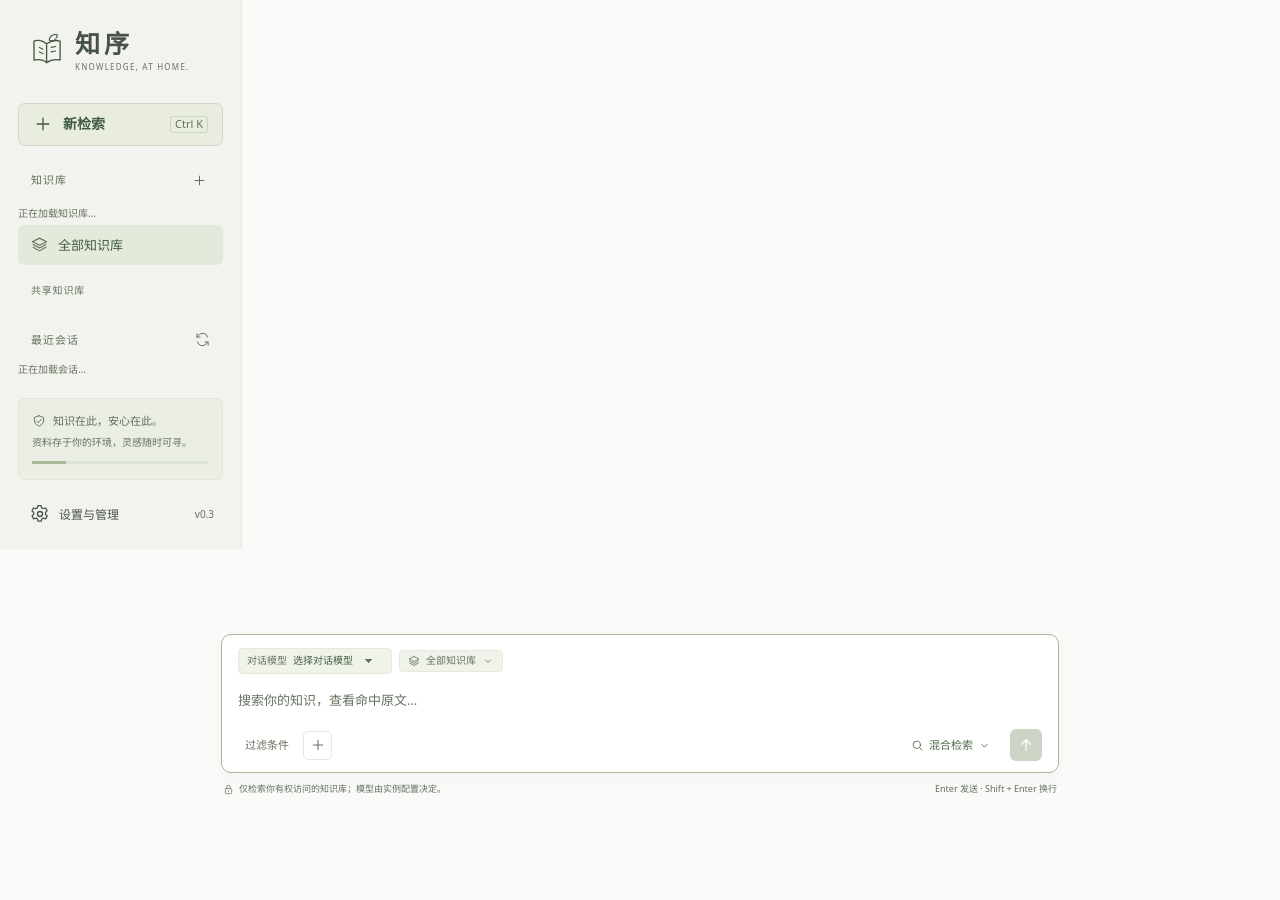
Test: 格式与上传时间可以叠加过滤并在新检索时重置
Click the button "过滤条件": x=267, y=745 [238,733,296,757]
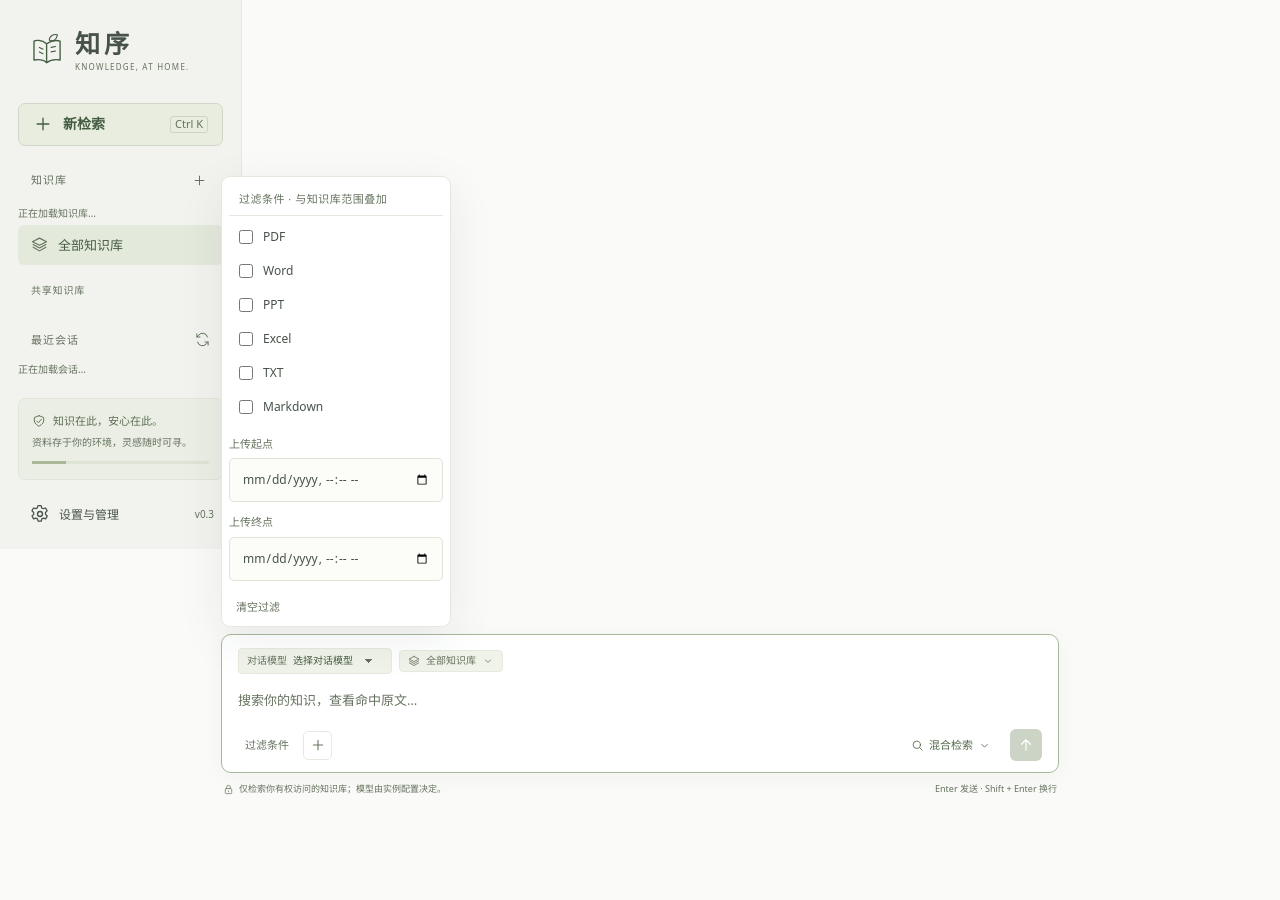
Click the checkbox labelled "PDF": x=246, y=236 [239,230,253,244]
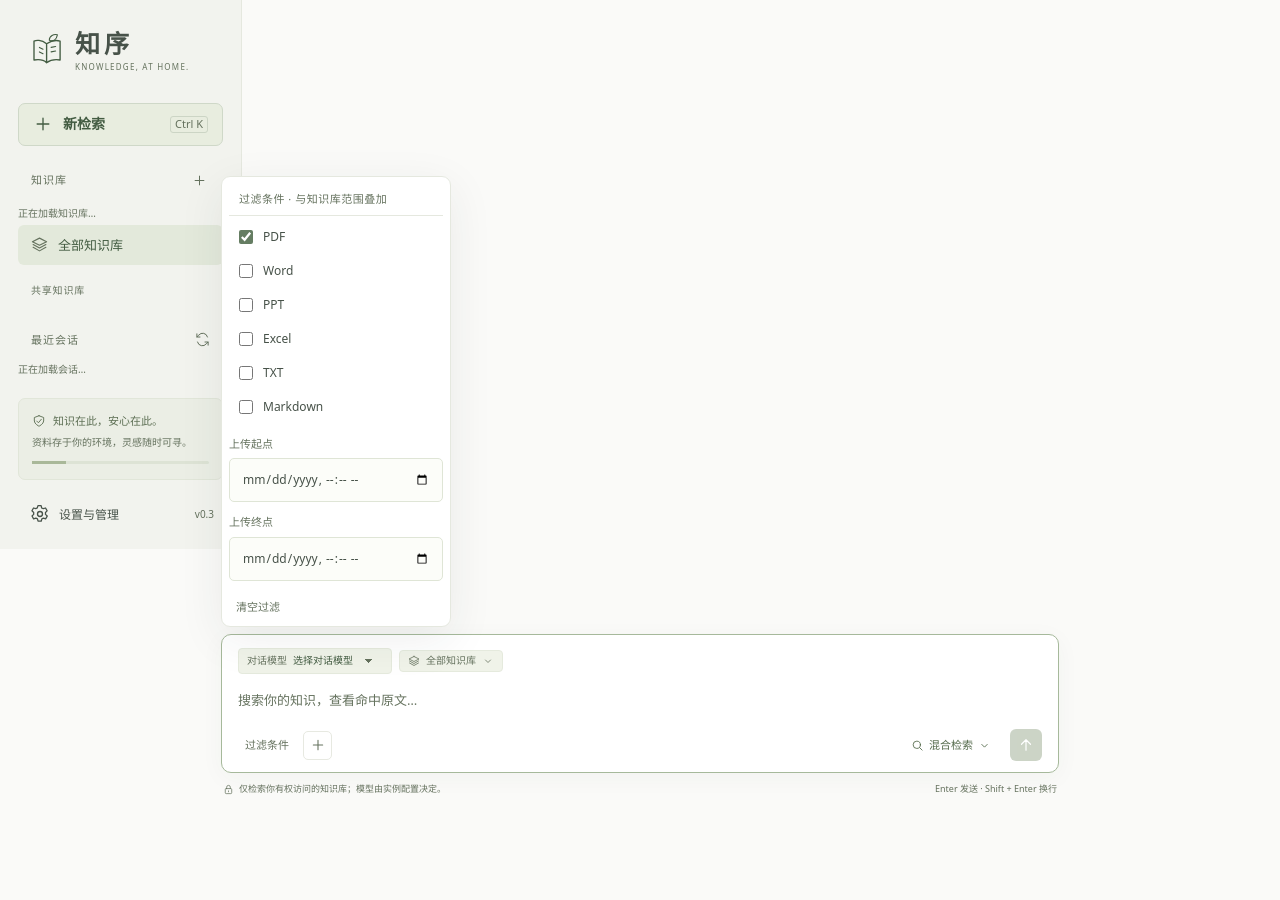
In the field labelled "上传起点": x=336, y=480 [229,458,443,502], type "2026-10-01T10:00"
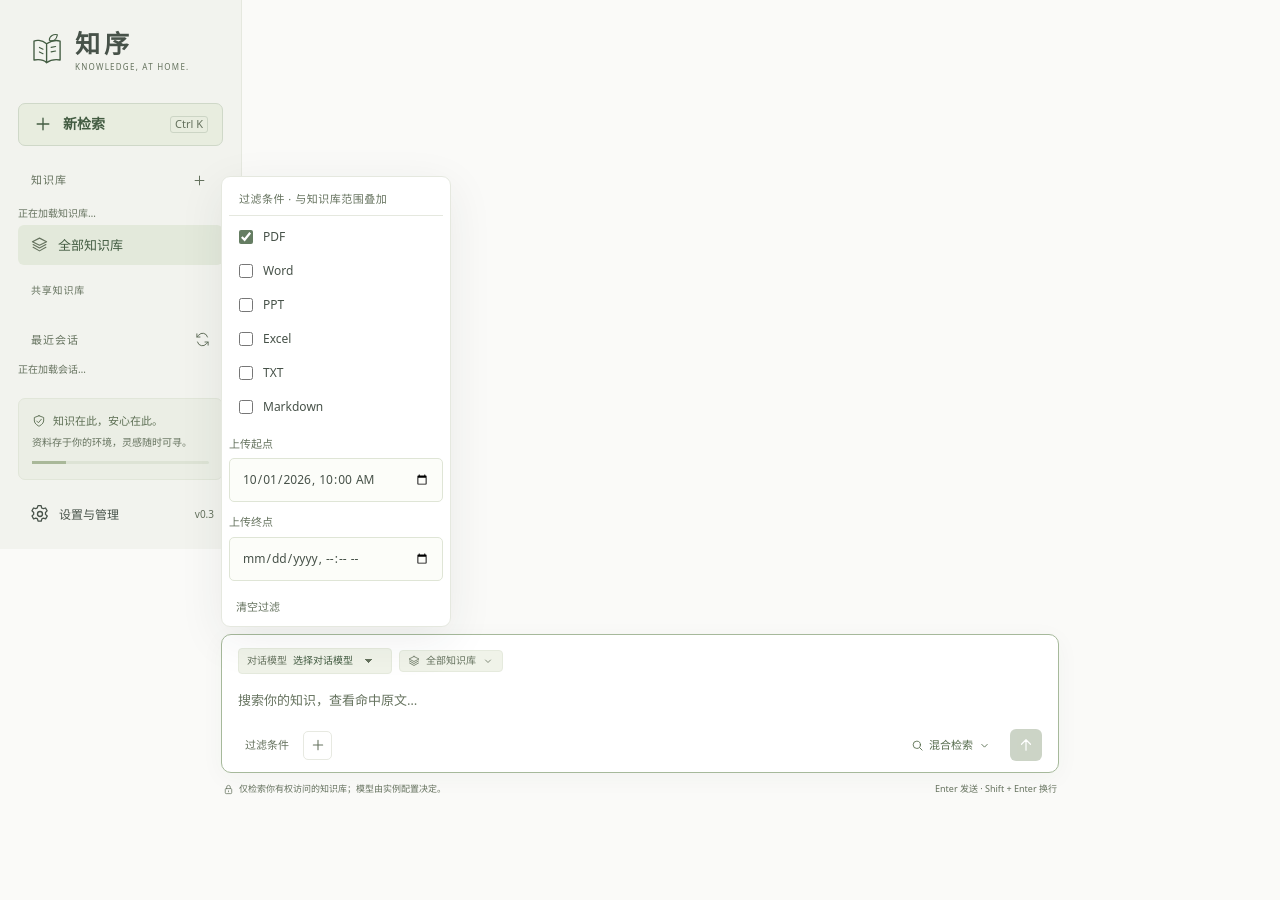
In the field labelled "上传终点": x=336, y=559 [229,537,443,581], type "2026-10-24T18:00"
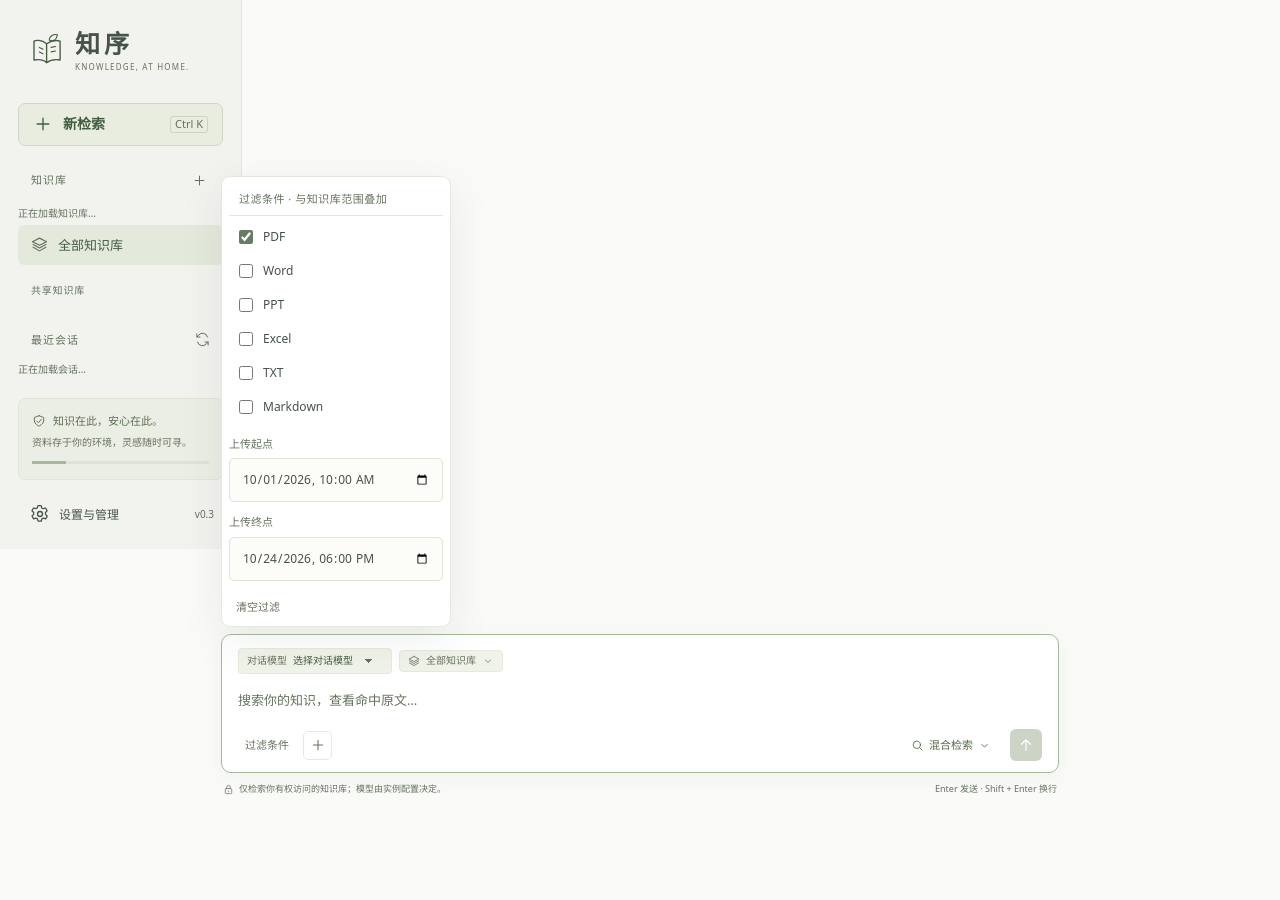
expect the checkbox labelled "PDF" is checked: met, box [239,230,253,244]
Click the button "新检索 Ctrl K": x=120, y=124 [18,103,223,146]
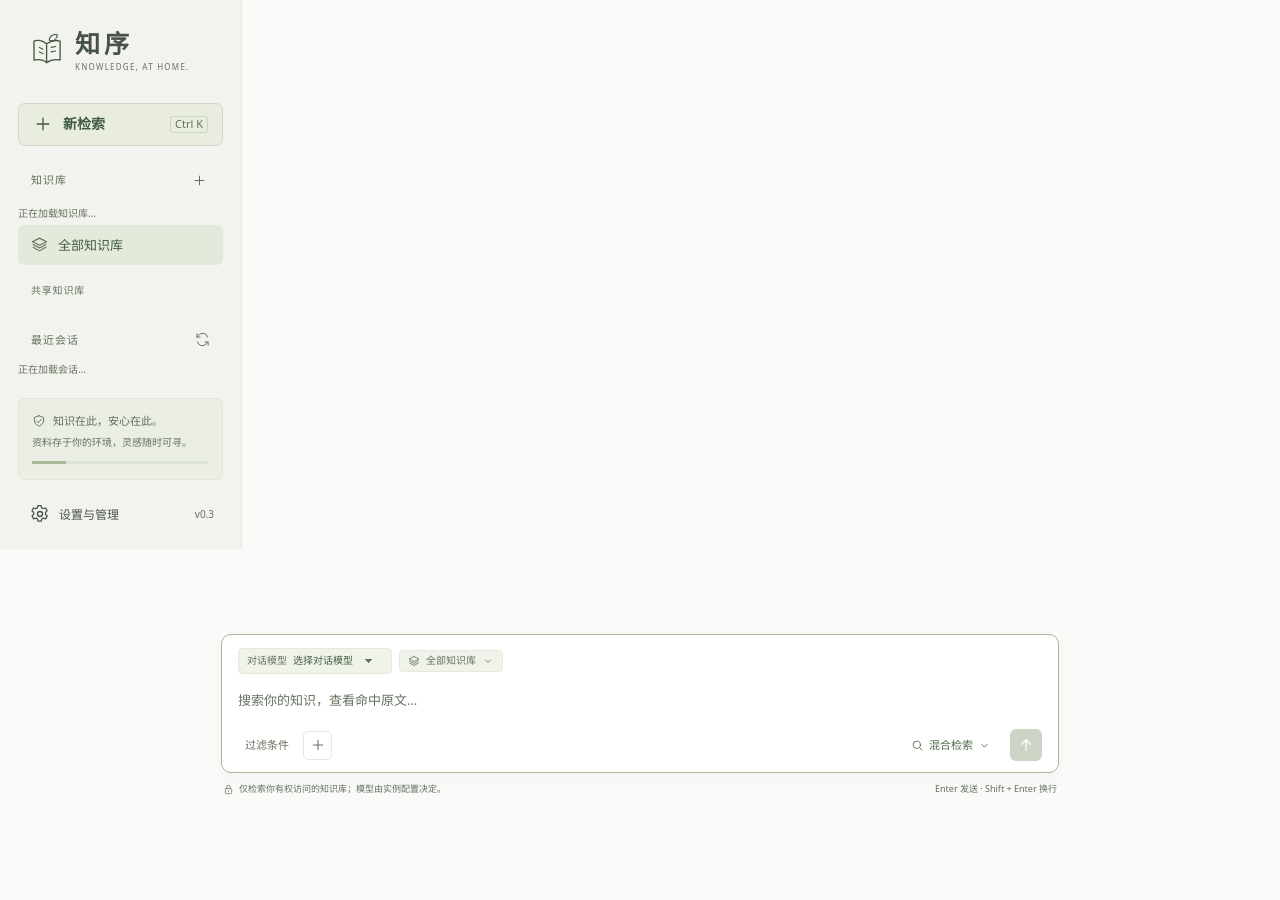
Click the button "过滤条件": x=267, y=745 [238,733,296,757]
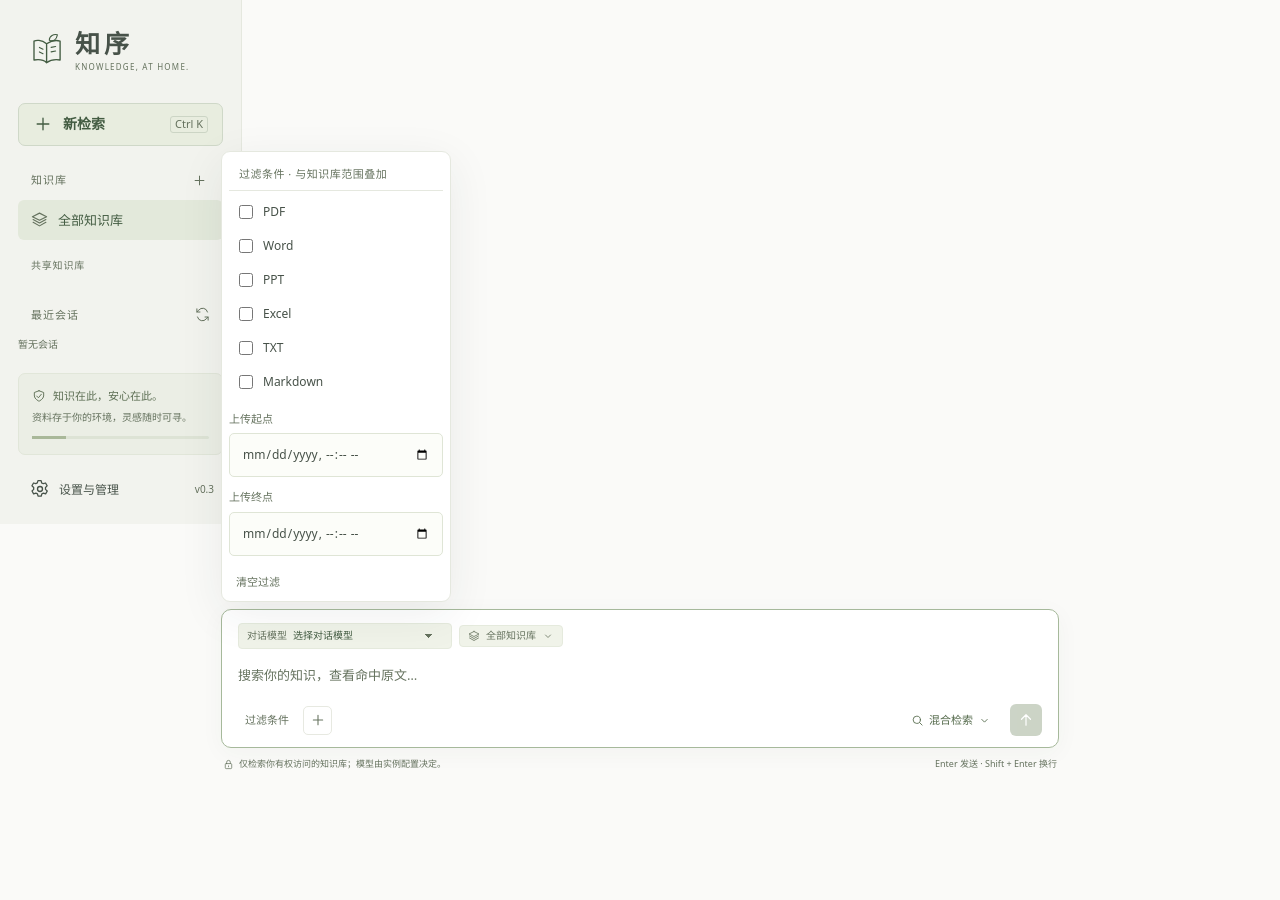
expect the checkbox labelled "PDF" is not checked: met, box [239,204,253,218]
expect the field labelled "上传起点" is empty: met, box [229,433,443,477]
